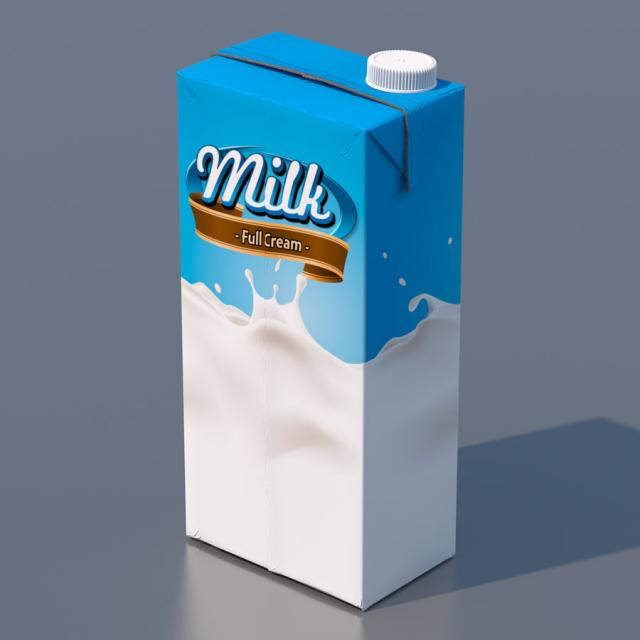non_white_jug: (159, 15, 478, 626)
